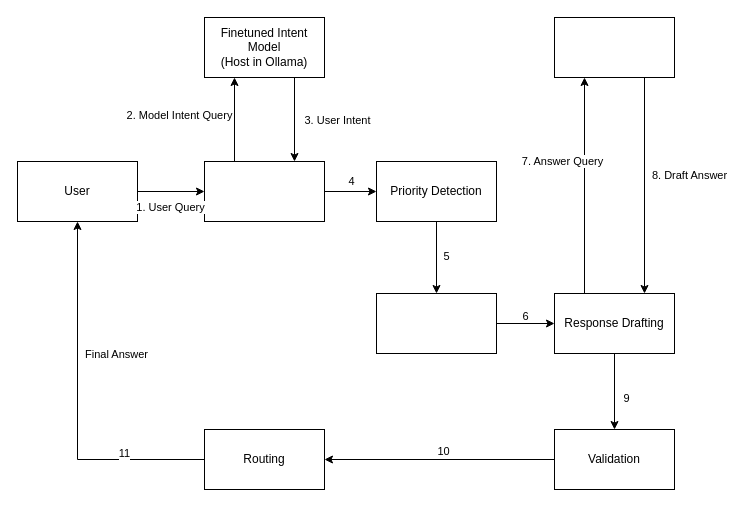
This 744x507 diagram has some shape labels left out. Here are the shapes that lost their labels. From the top down, the box of each, then its label:
(554, 16, 674, 78): gpt-oss:20b (Host in Ollama)
(204, 160, 324, 222): Intent Detection (Finetune model)
(376, 292, 496, 354): Policy Retrieval
